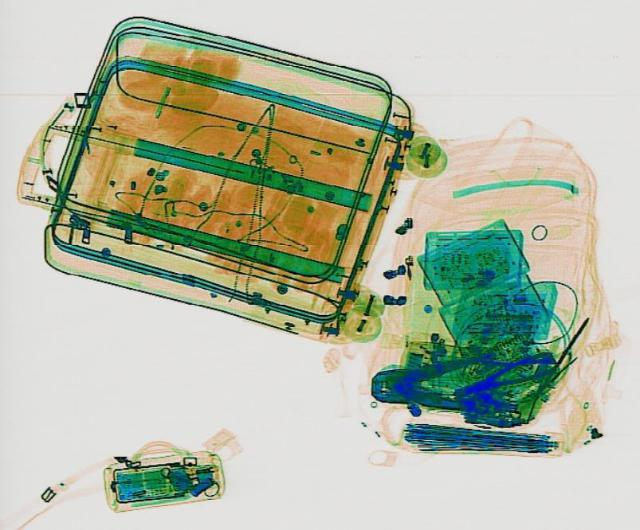Pliers: (368, 353, 507, 412), (448, 345, 562, 404)
